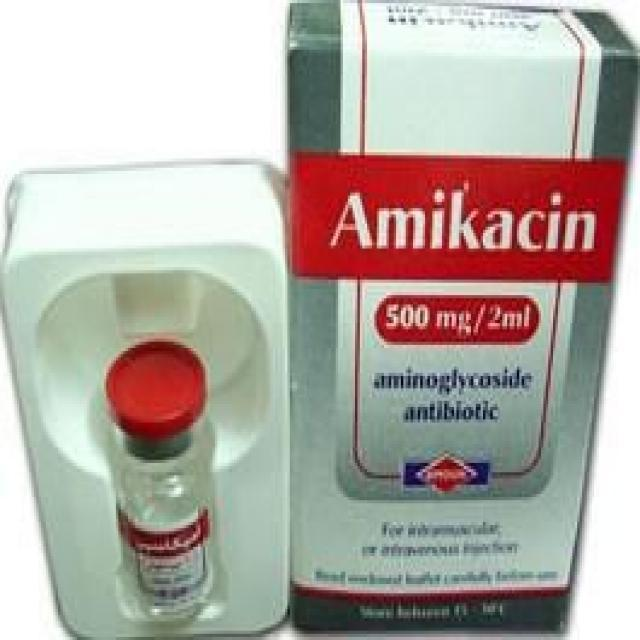drug-name: (328, 174, 602, 264)
